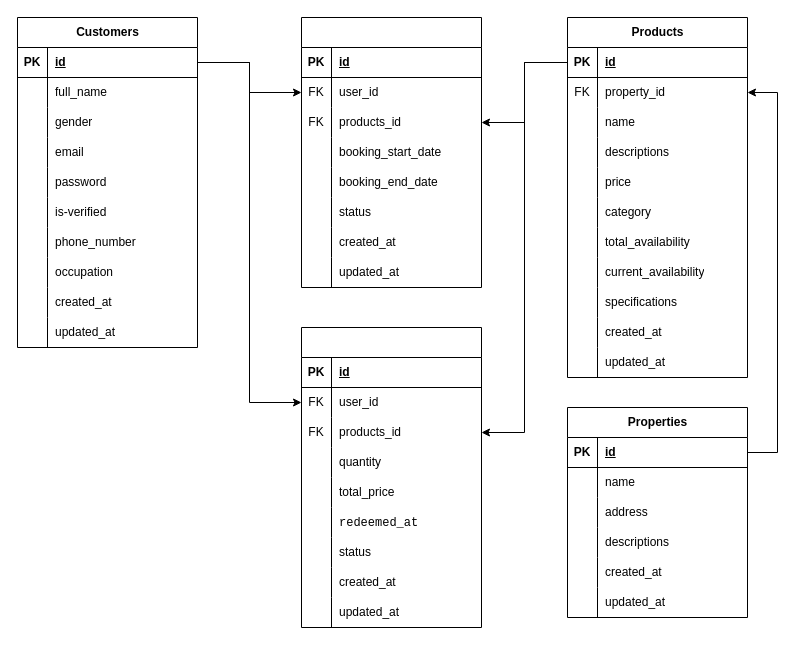
This 803x645 diagram has some shape labels left out. Here are the shapes that lost their labels. From the top down, the box of each, then its label:
(300, 16, 482, 288): Booking_Transactions
(300, 326, 482, 628): Ticket_Redemptions
